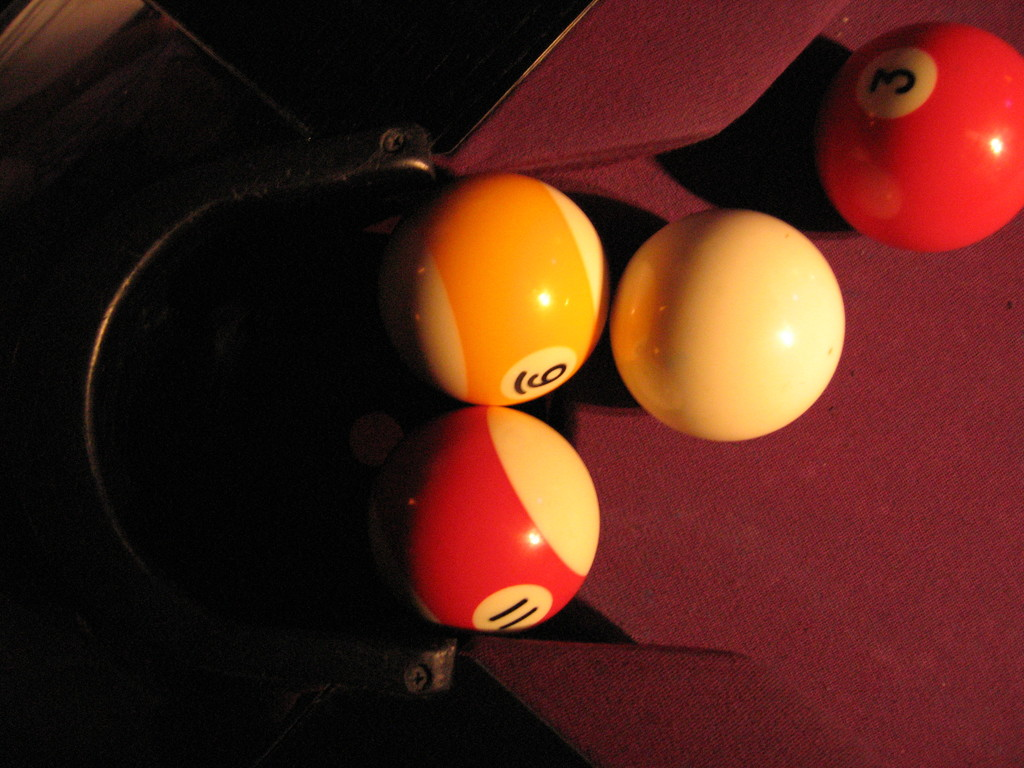Ball: (362, 406, 598, 638), (611, 209, 842, 441), (387, 170, 609, 403), (810, 24, 1023, 259)
